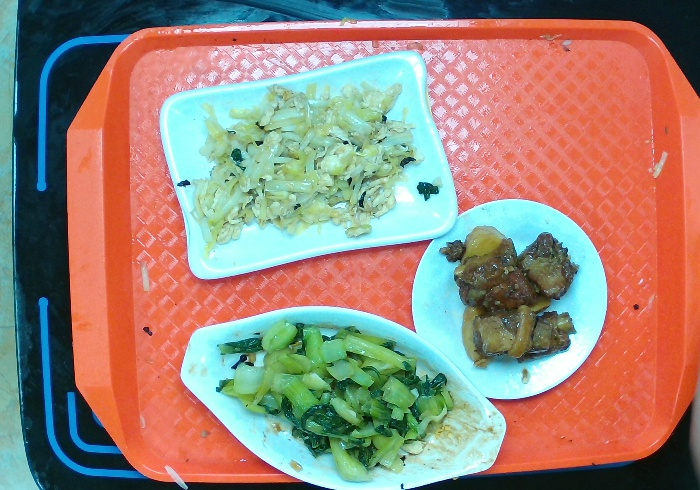RJxy-Si_Fang_Ao_Bian_Wan: (156, 56, 466, 276)
RJxy-Xiao_Yuan_Die: (405, 202, 607, 399)
RJxy-Yu_Pan: (182, 301, 506, 490)
